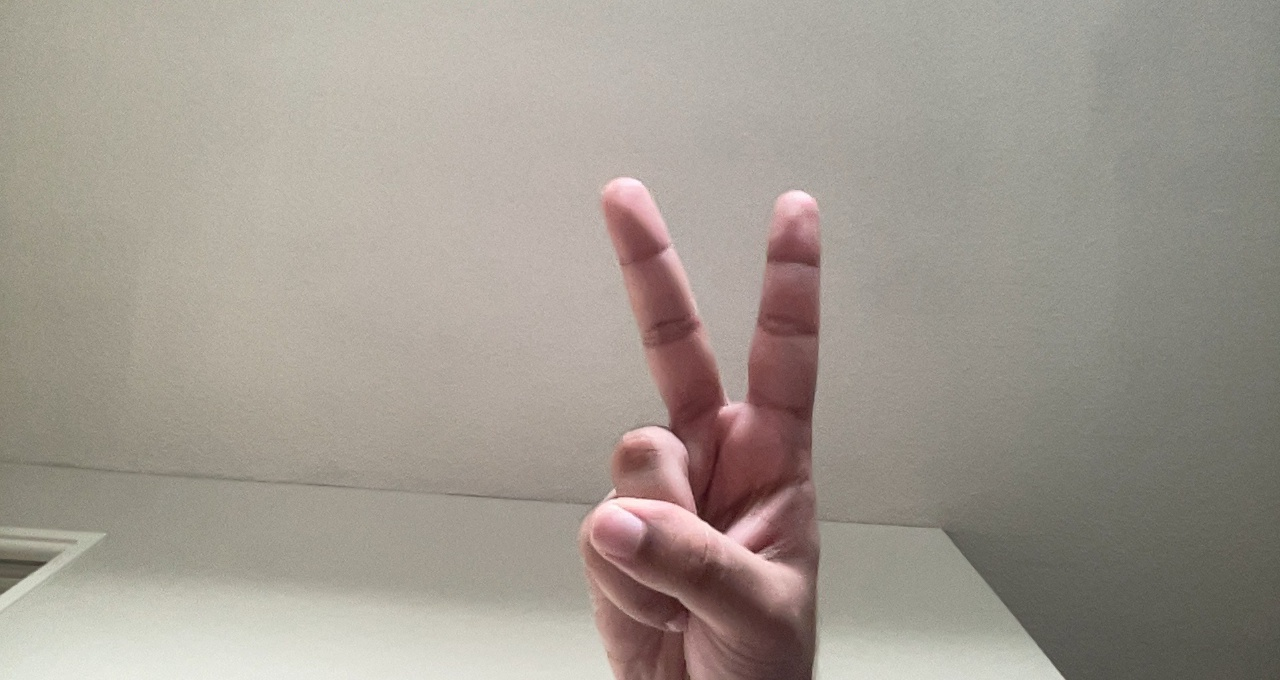peace sign: (571, 155, 848, 680)
